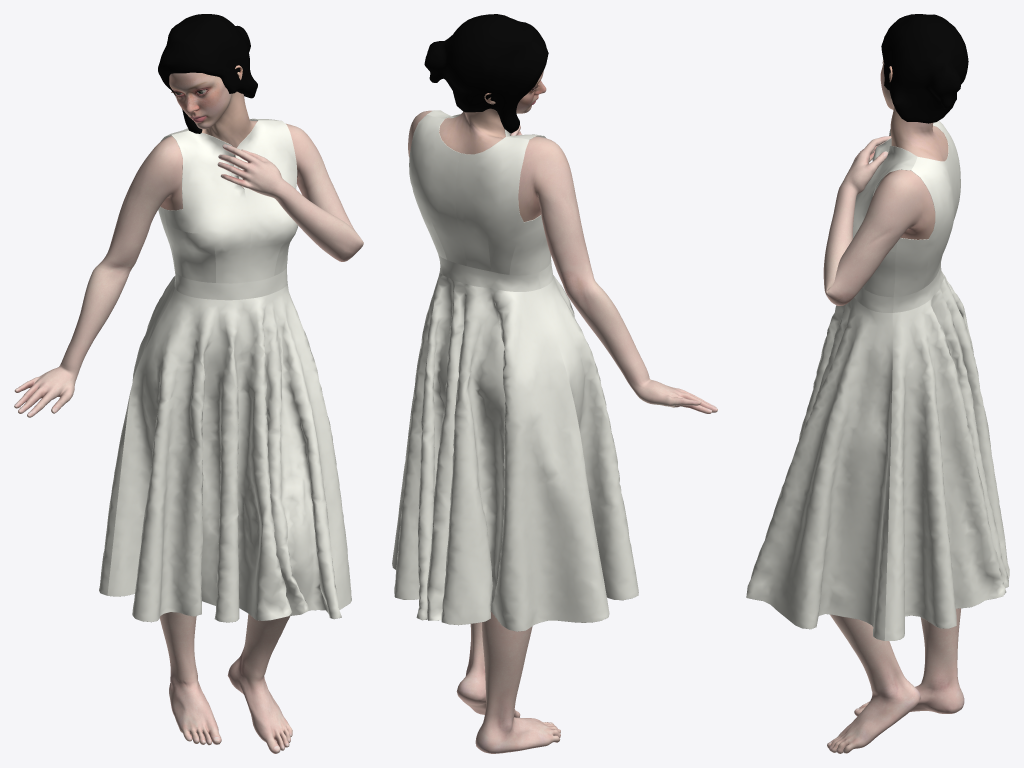
The model's file is Custom_View_3__Dramatic.obj.
The picture shows the model from 3 angles, left to right: view 1: azimuth 30°, elevation 25°; view 2: azimuth 150°, elevation 25°; view 3: azimuth 270°, elevation 25°; orthographic projection. The views are drawn at different scales.
Size of the model in its own units: 816 by 1767 by 588.
